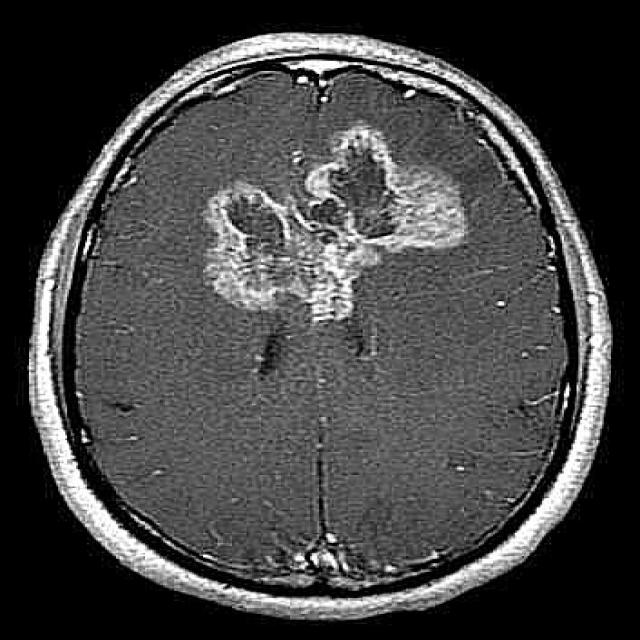Tumor-Cell: (203, 125, 465, 325)
